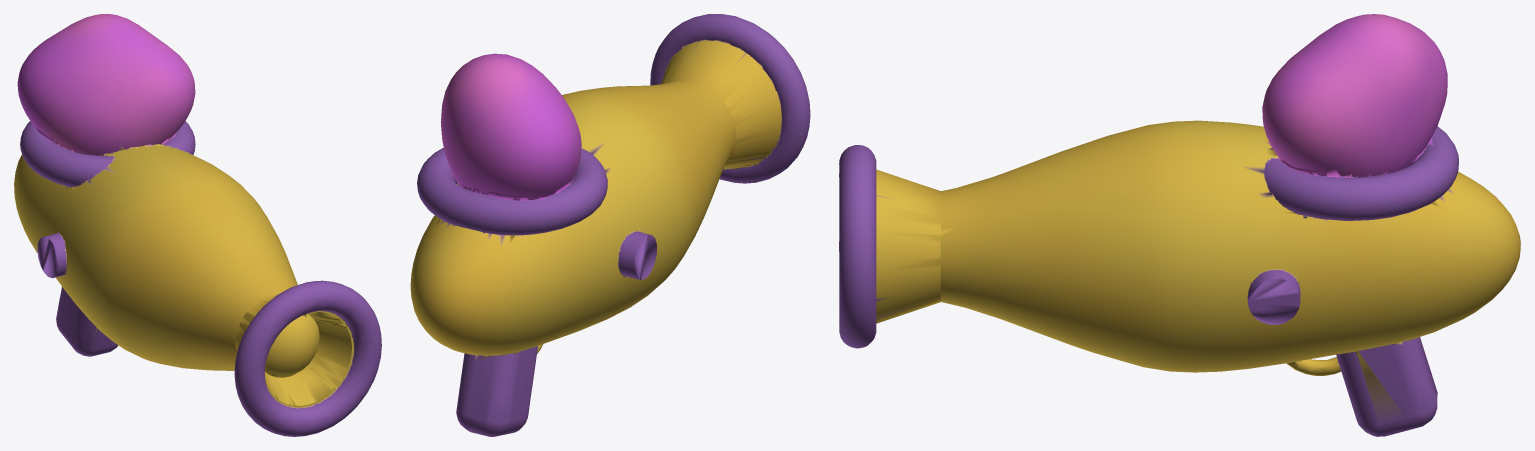
Rendered from blob-gun.glb.
The picture shows the model from 3 angles, left to right: view 1: azimuth 30°, elevation 25°; view 2: azimuth 150°, elevation 25°; view 3: azimuth 270°, elevation 25°; orthographic projection. The views are drawn at different scales.
Visible parts, largest first — view 1: body; view 2: body; view 3: body.
Part boxes in pixels (x1=…): body: x1=14, y1=14, x2=381, y2=436; body: x1=410, y1=14, x2=810, y2=436; body: x1=839, y1=14, x2=1520, y2=436.
Size of the model in its own units: 0.168 by 0.2964 by 0.4421.
